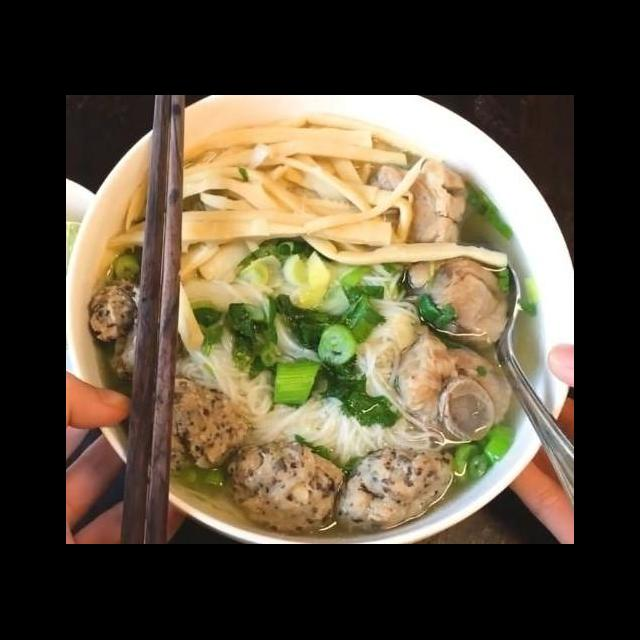bun: (175, 348, 444, 456), (351, 270, 415, 410)
vien moc: (223, 438, 349, 540), (336, 444, 460, 534), (166, 374, 254, 480), (82, 276, 140, 350)
